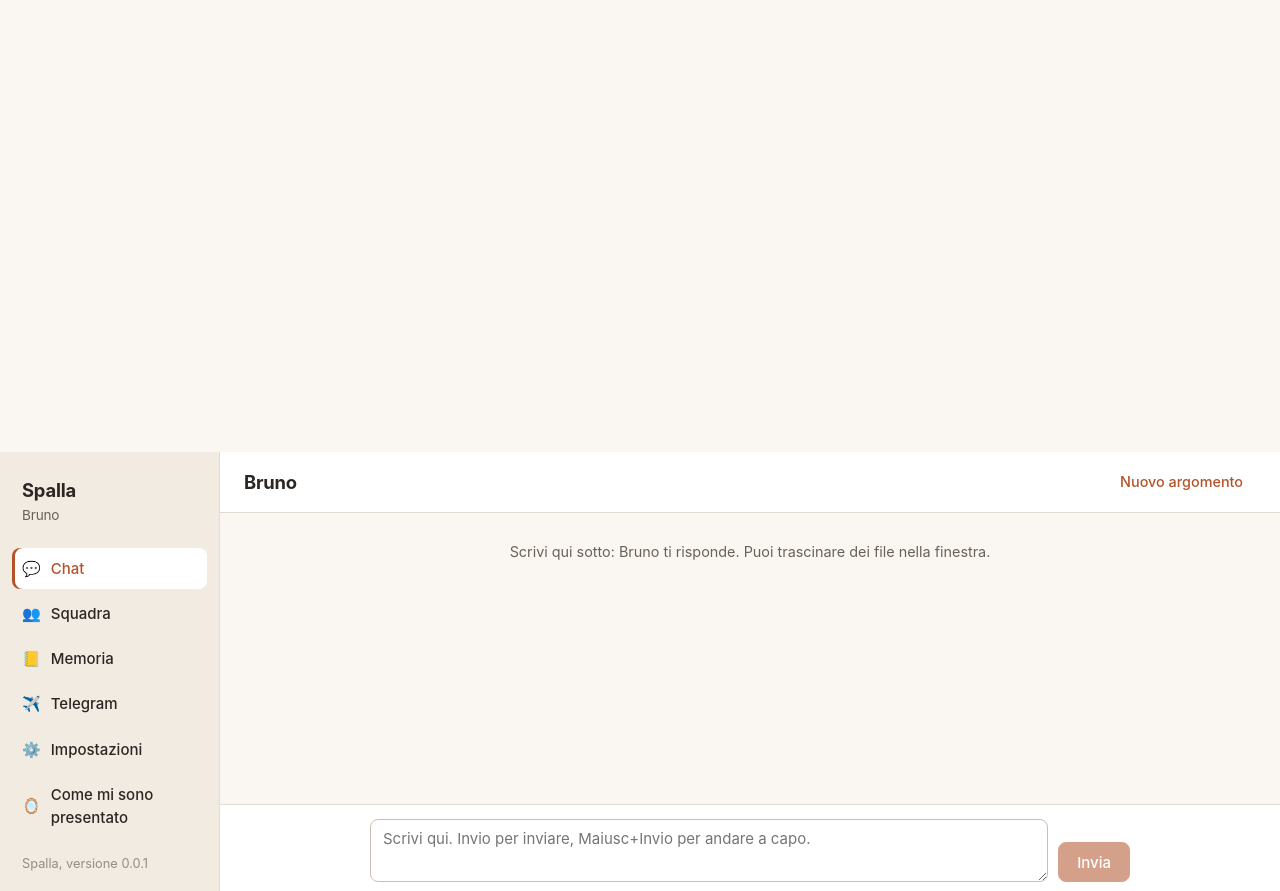
Test: la chat nella finestra › mentre aspetta una risposta: niente "Ci lavoro…" e niente riga "Ti faccio una domanda"
This screenshot has width=1280, height=891.
Later steps or results of the test are not shown.
(page scrolled)
In the text box named "Il tuo messaggio": (709, 851) [370,819,1048,882], type "ciao"
Then press Enter
(page scrolled)
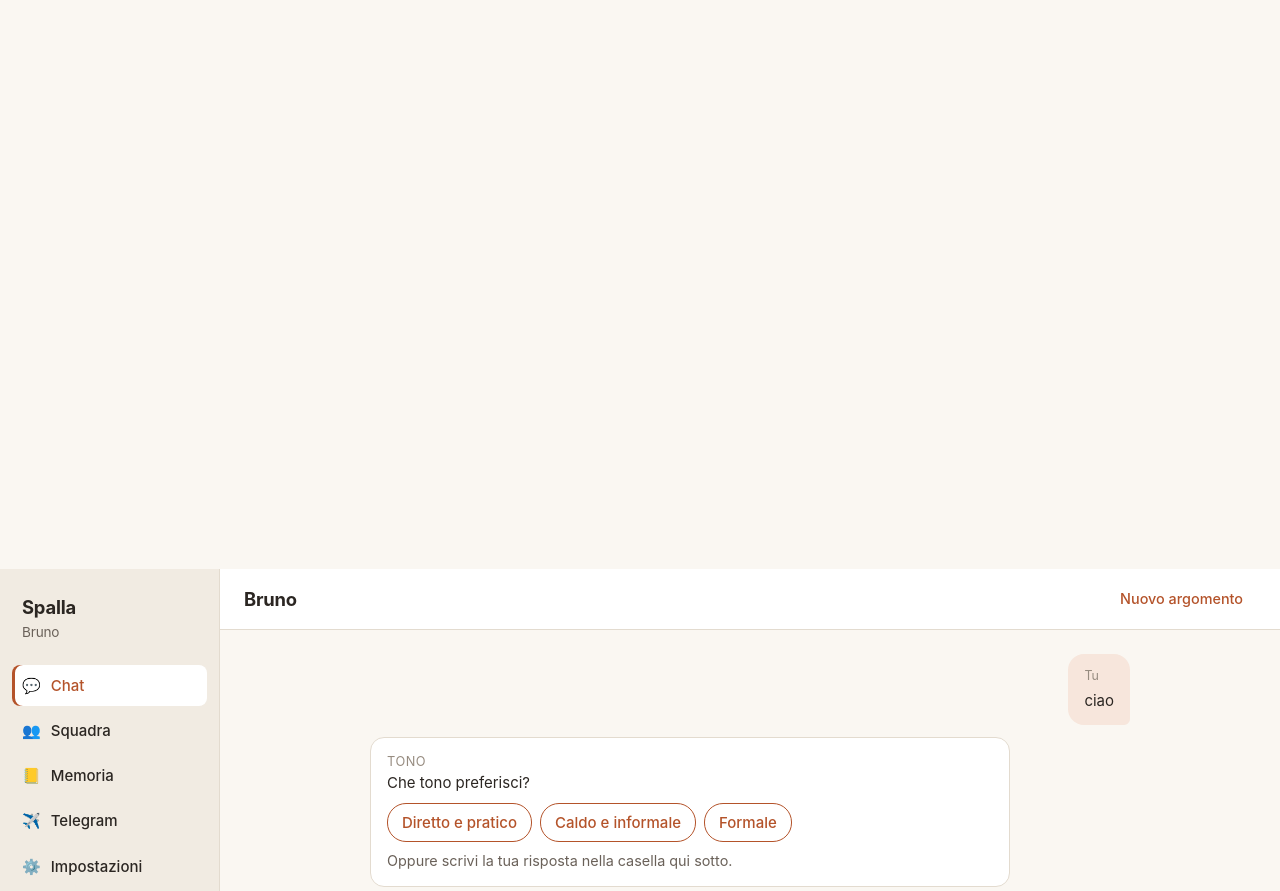
Expected: the text "Ci lavoro…" is not shown
Click the button "Formale": (748, 822) [704,803,792,842]
(page scrolled)
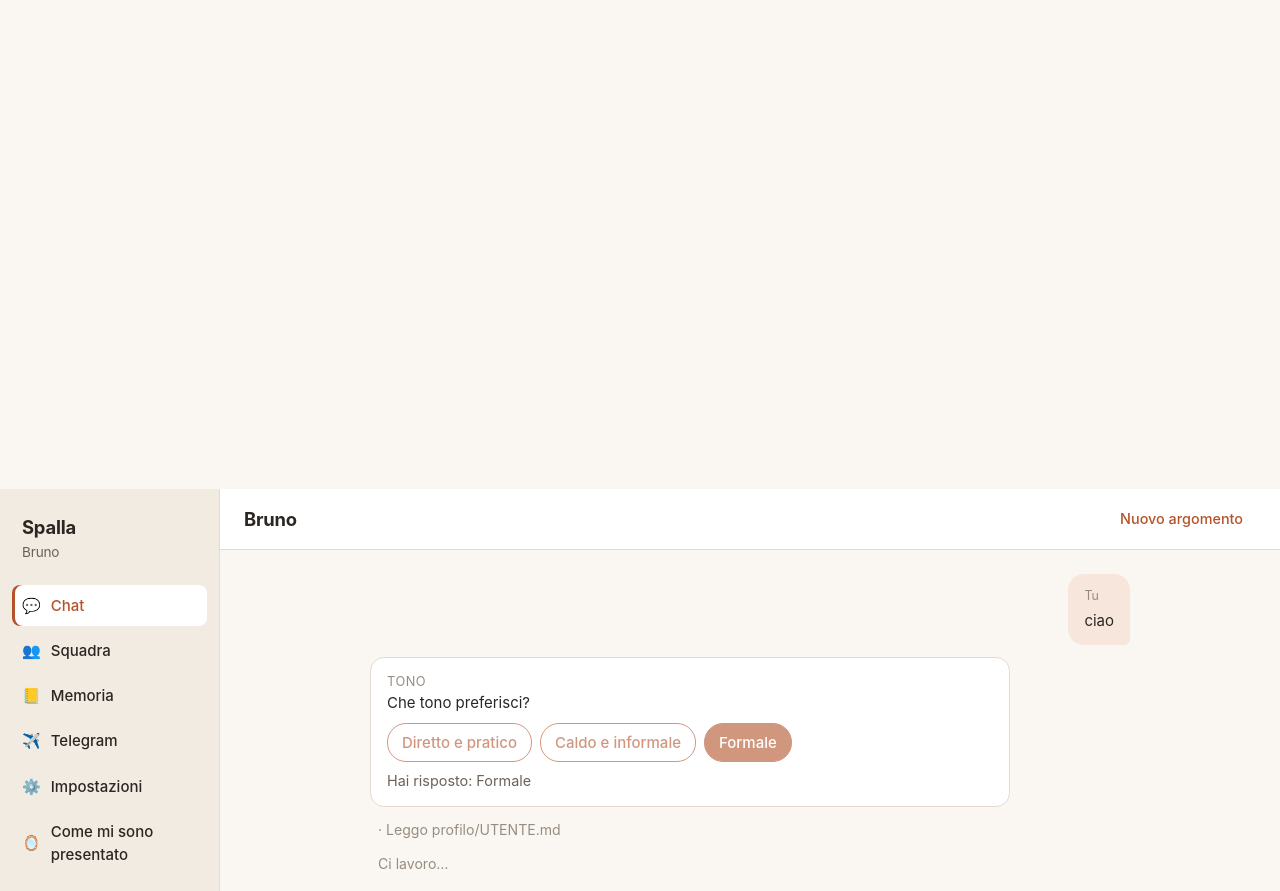
Expected: the text "Ci lavoro…" is shown, [378,855,448,872]
